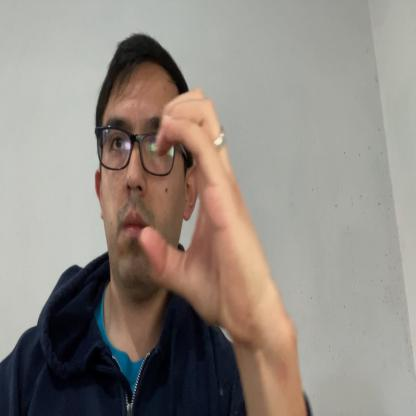C: (140, 87, 260, 334)
